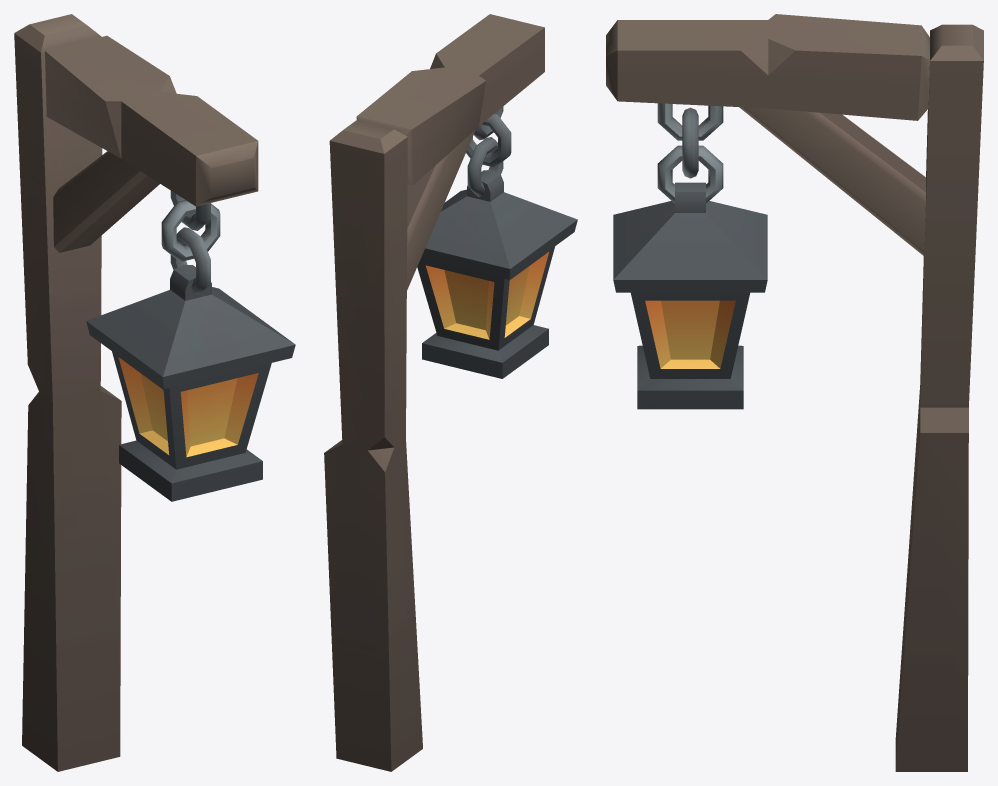
Rendered from post_lantern.glb.
The picture shows the model from 3 angles, left to right: view 1: azimuth 30°, elevation 25°; view 2: azimuth 150°, elevation 25°; view 3: azimuth 270°, elevation 25°; orthographic projection. The views are drawn at different scales.
Parts seen in each view (by area): view 1: Cube.124, post_lantern_lantern; view 2: Cube.124, post_lantern_lantern; view 3: Cube.124, post_lantern_lantern.
Part boxes in pixels (box(x1,y1,x2,y2)): Cube.124: box(14, 14, 258, 771); post_lantern_lantern: box(86, 191, 295, 501); Cube.124: box(324, 14, 544, 771); post_lantern_lantern: box(417, 106, 577, 378); Cube.124: box(606, 14, 983, 771); post_lantern_lantern: box(613, 103, 767, 409).
Size of the model in its own units: 0.64 by 3.3 by 1.57.
1 material, 1 textured.
